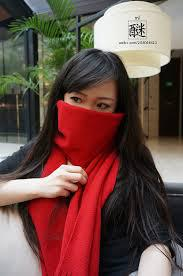OK: (61, 85, 117, 144)
